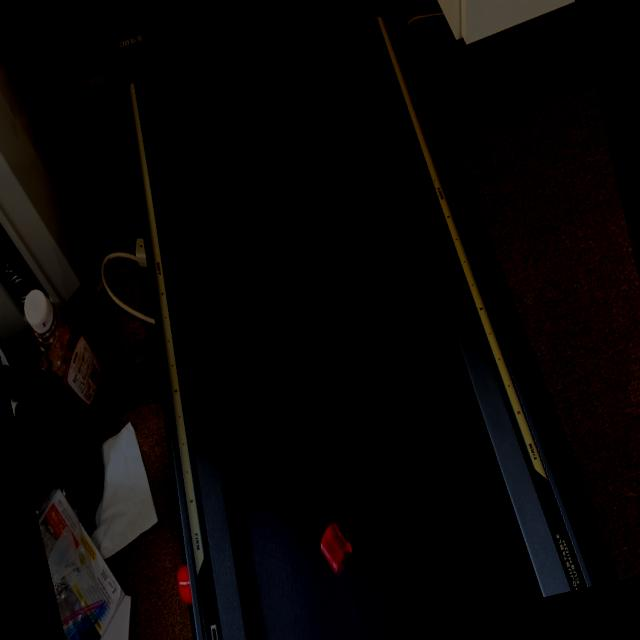Trash: (314, 514, 359, 578)
